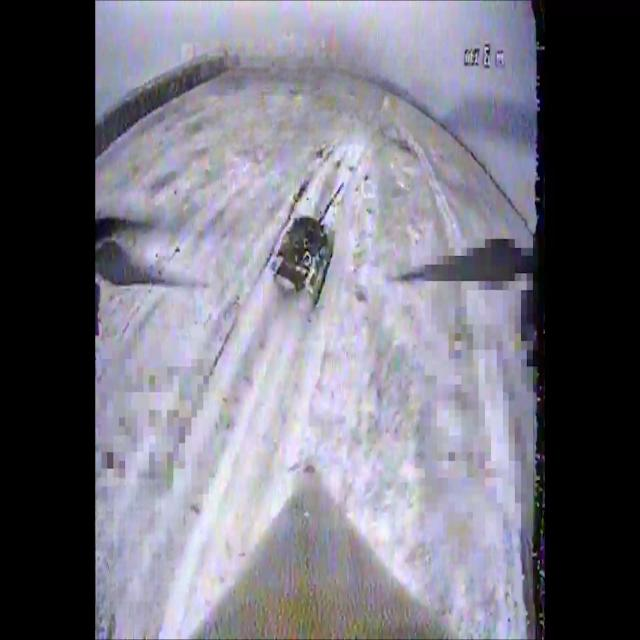MBT: (269, 184, 350, 305)
